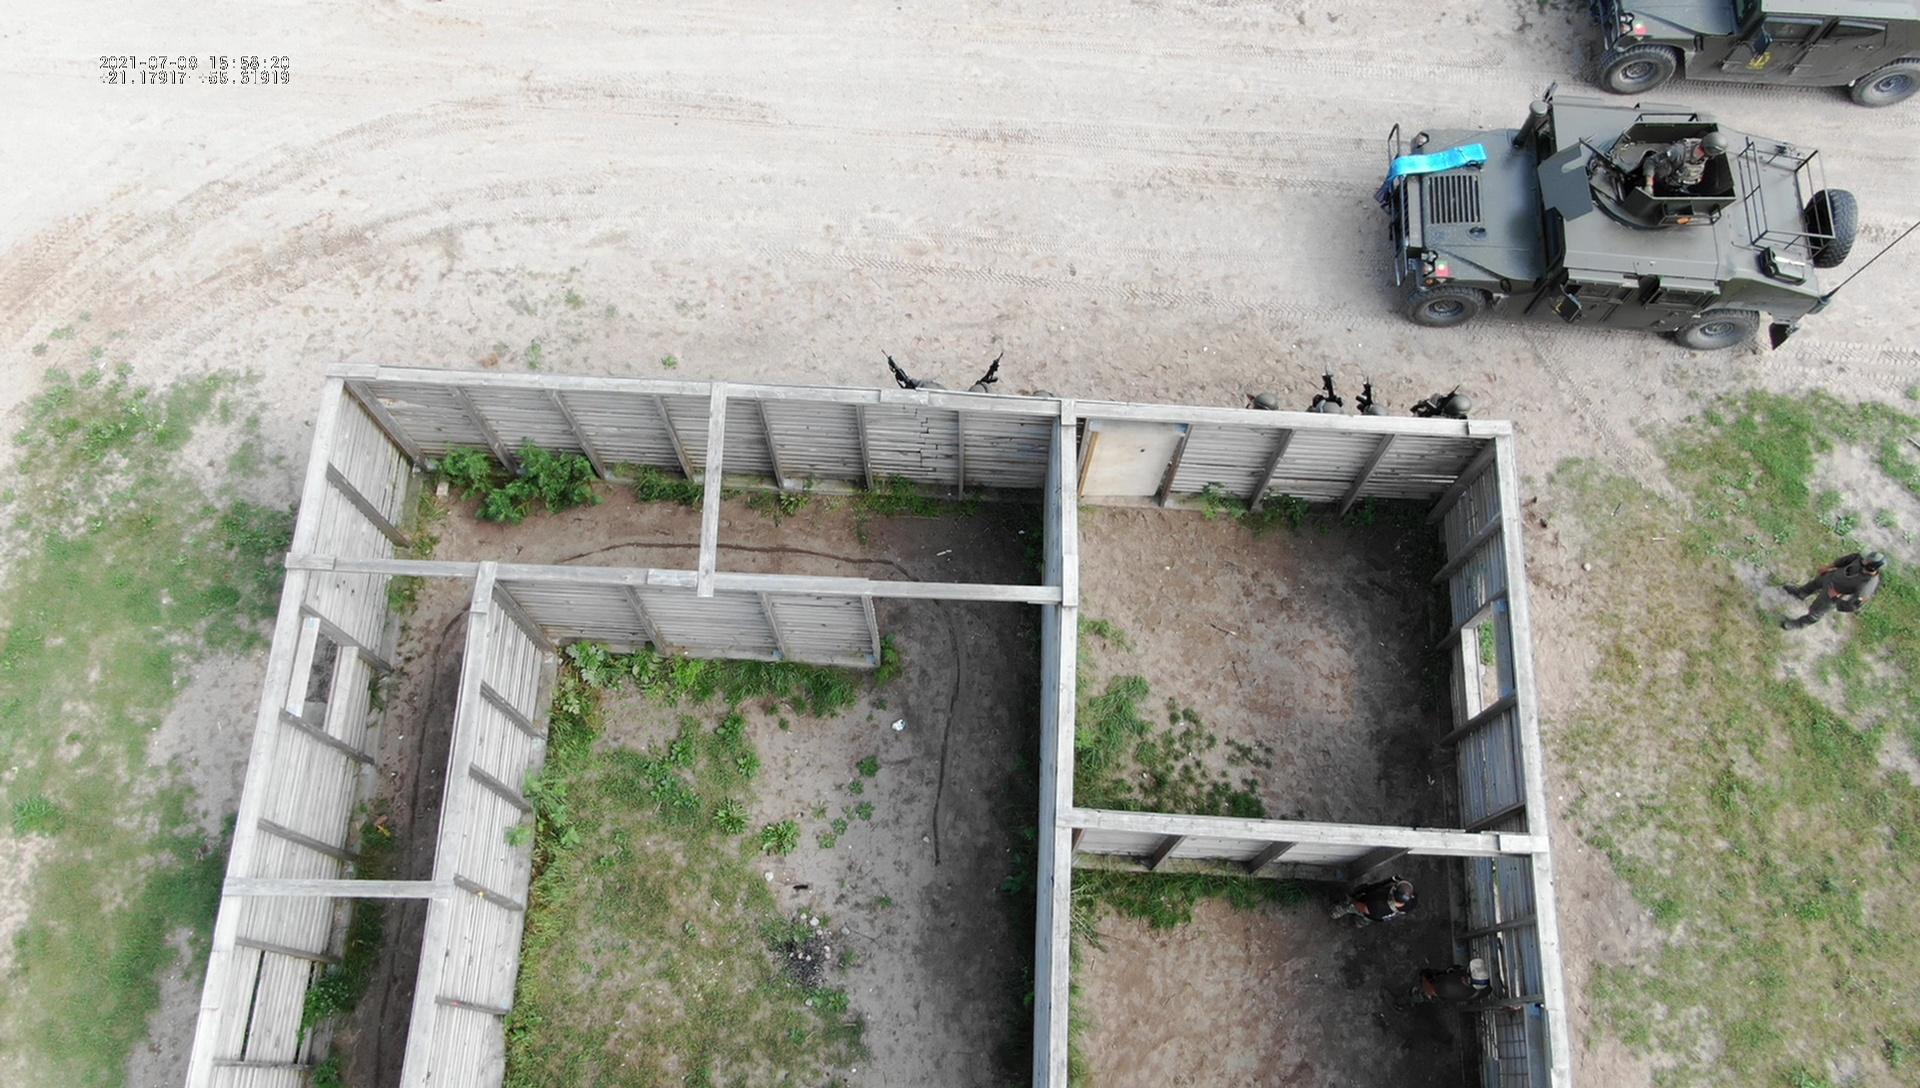Soldier: (1375, 957, 1495, 1062), (1335, 865, 1425, 975), (1609, 142, 1720, 229), (1791, 545, 1891, 636), (1411, 380, 1472, 422)
